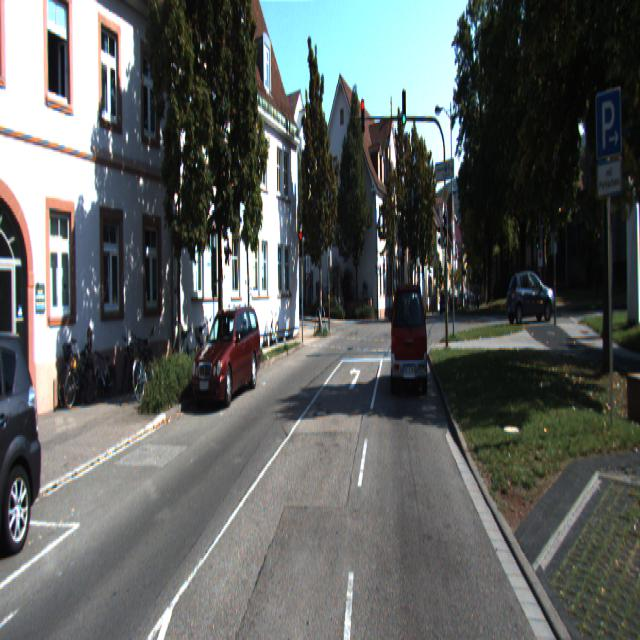Car: (0, 322, 48, 560), (190, 309, 263, 411), (390, 282, 429, 394), (504, 268, 554, 324)
